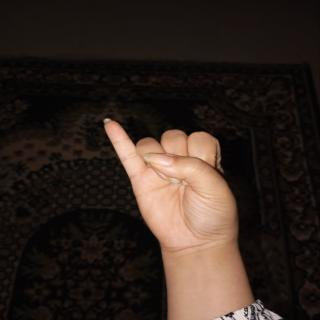MEEM: (97, 105, 256, 266)
